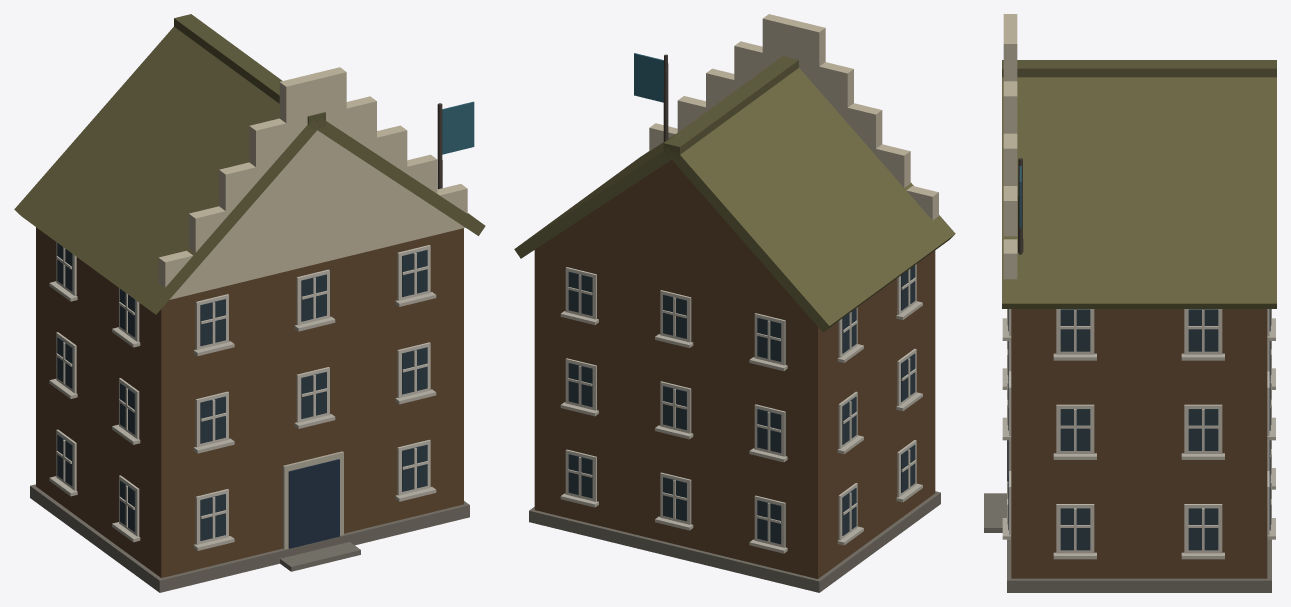
File: procedural_guildhall@3.glb
The picture shows the model from 3 angles, left to right: view 1: azimuth 30°, elevation 25°; view 2: azimuth 150°, elevation 25°; view 3: azimuth 270°, elevation 25°; orthographic projection. The views are drawn at different scales.
Visible parts, largest first — view 1: part_0; view 2: part_0; view 3: part_0.
Part boxes in pixels (<box>): part_0: <box>14,14,485,592</box>; part_0: <box>514,14,955,592</box>; part_0: <box>984,14,1276,592</box>.
Bounding box in the file's own units: 8.68 × 11.75 × 6.41.
